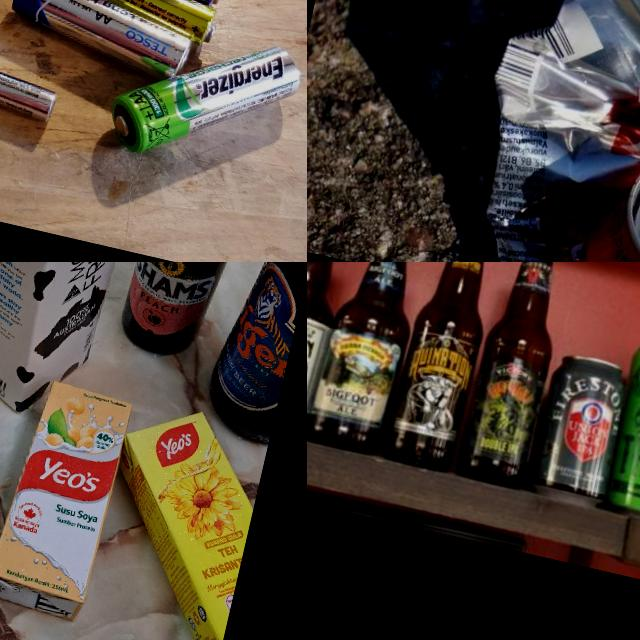bateria: (103, 15, 307, 186), (2, 0, 199, 83), (38, 0, 227, 46), (0, 36, 63, 125)
caixinha: (81, 395, 271, 640), (0, 374, 136, 623), (0, 262, 167, 428)
garrafa de vidro: (451, 262, 577, 490), (382, 262, 509, 473), (307, 262, 432, 455), (197, 262, 307, 447), (117, 262, 278, 368), (307, 262, 358, 440)
lata: (444, 0, 640, 262), (522, 349, 636, 510), (598, 330, 640, 528)
